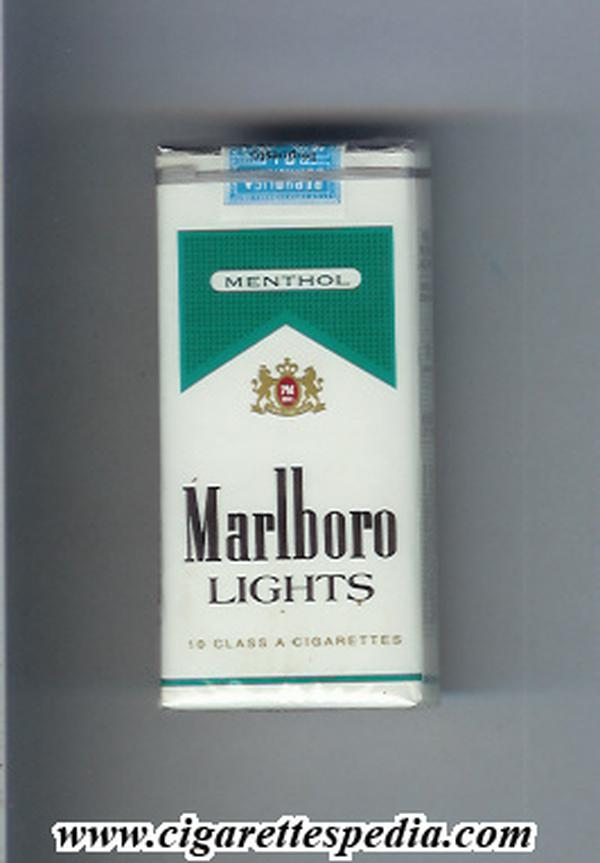marlboro_mentol: (155, 157, 415, 705)
